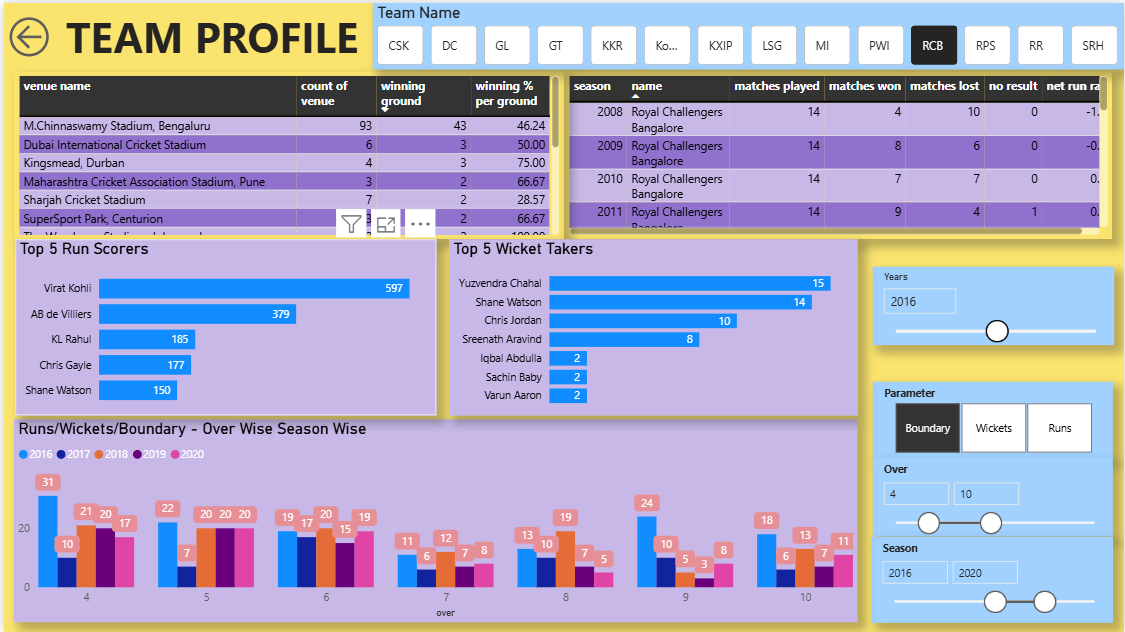

The dashboard page shown, as its layout file describes it:
{"tool":"powerbi","page":{"name":"team profile","canvas":[1280,720],"ordinal":2},"visuals":[{"type":"textbox","box":[65,0,356.2,78.8],"z":0},{"type":"actionButton","box":[0,10,65,57.5],"z":1000},{"type":"advancedSlicerVisual","title":"Team Name","fields":{"Values":["points_table.short_name"]},"box":[421.2,0,858.8,76.2],"z":2000},{"type":"tableEx","fields":{"Values":["points_table.season","points_table.name","Sum(points_table.matchesplayed)","Sum(points_table.matcheswon)","Sum(points_table.matcheslost)","Sum(points_table.noresult)","Sum(points_table.nrr)"]},"box":[640,78.8,626.2,191.2],"z":3000},{"type":"tableEx","fields":{"Values":["season_summary.venue_name","CountNonNull(season_summary.venue_name)","season_summary.winning ground","season_summary.winning % per ground"]},"box":[11.4,78.6,628.6,191.4],"z":4000},{"type":"slicer","fields":{"Values":["Parameter.Parameter"]},"box":[993.2,432.2,274.6,88.1],"z":5000},{"type":"slicer","fields":{"Values":["Over.Over"]},"box":[993.2,520.3,274.6,89.8],"z":6000},{"type":"slicer","fields":{"Values":["Season.Season"]},"box":[992,610,276,98],"z":7000},{"type":"clusteredColumnChart","title":"Runs/Wickets/Boundary - Over Wise Season Wise","fields":{"Category":["team profile.over"],"Y":["team profile.Dynamic"],"Series":["team profile.season"]},"box":[12,476,964,232],"z":8000},{"type":"clusteredBarChart","title":"Top 5 Run Scorers","fields":{"Category":["season_batting_card.fullName"],"Y":["season_batting_card.player runs"]},"box":[12.9,270,481.4,201.4],"z":9000},{"type":"slicer","fields":{"Values":["Years.Years"]},"box":[993.2,301.7,276.3,89.8],"z":10000},{"type":"clusteredBarChart","title":"Top 5 Wicket Takers","fields":{"Category":["season_bowling_card.fullName"],"Y":["season_bowling_card.rank of bowler"]},"box":[508.6,270,467.1,201.4],"z":11000}]}

Visuals, with their boxes in screenshot pixels (x1, y1, x2, y2), scaled from the page's 1280x720 canvas onto the 1125x632 screenshot:
textbox: detection(57, 0, 370, 69)
actionButton: detection(0, 9, 57, 59)
"Team Name" advancedSlicerVisual: detection(370, 0, 1124, 67)
tableEx - points_table.season x points_table.name: detection(562, 69, 1113, 237)
tableEx - season_summary.venue_name x CountNonNull(season_summary.venue_name): detection(10, 69, 562, 237)
slicer - Parameter.Parameter: detection(873, 379, 1114, 457)
slicer - Over.Over: detection(873, 457, 1114, 536)
slicer - Season.Season: detection(872, 535, 1114, 621)
"Runs/Wickets/Boundary - Over Wise Season Wise" clusteredColumnChart: detection(11, 418, 858, 621)
"Top 5 Run Scorers" clusteredBarChart: detection(11, 237, 434, 414)
slicer - Years.Years: detection(873, 265, 1116, 344)
"Top 5 Wicket Takers" clusteredBarChart: detection(447, 237, 858, 414)
